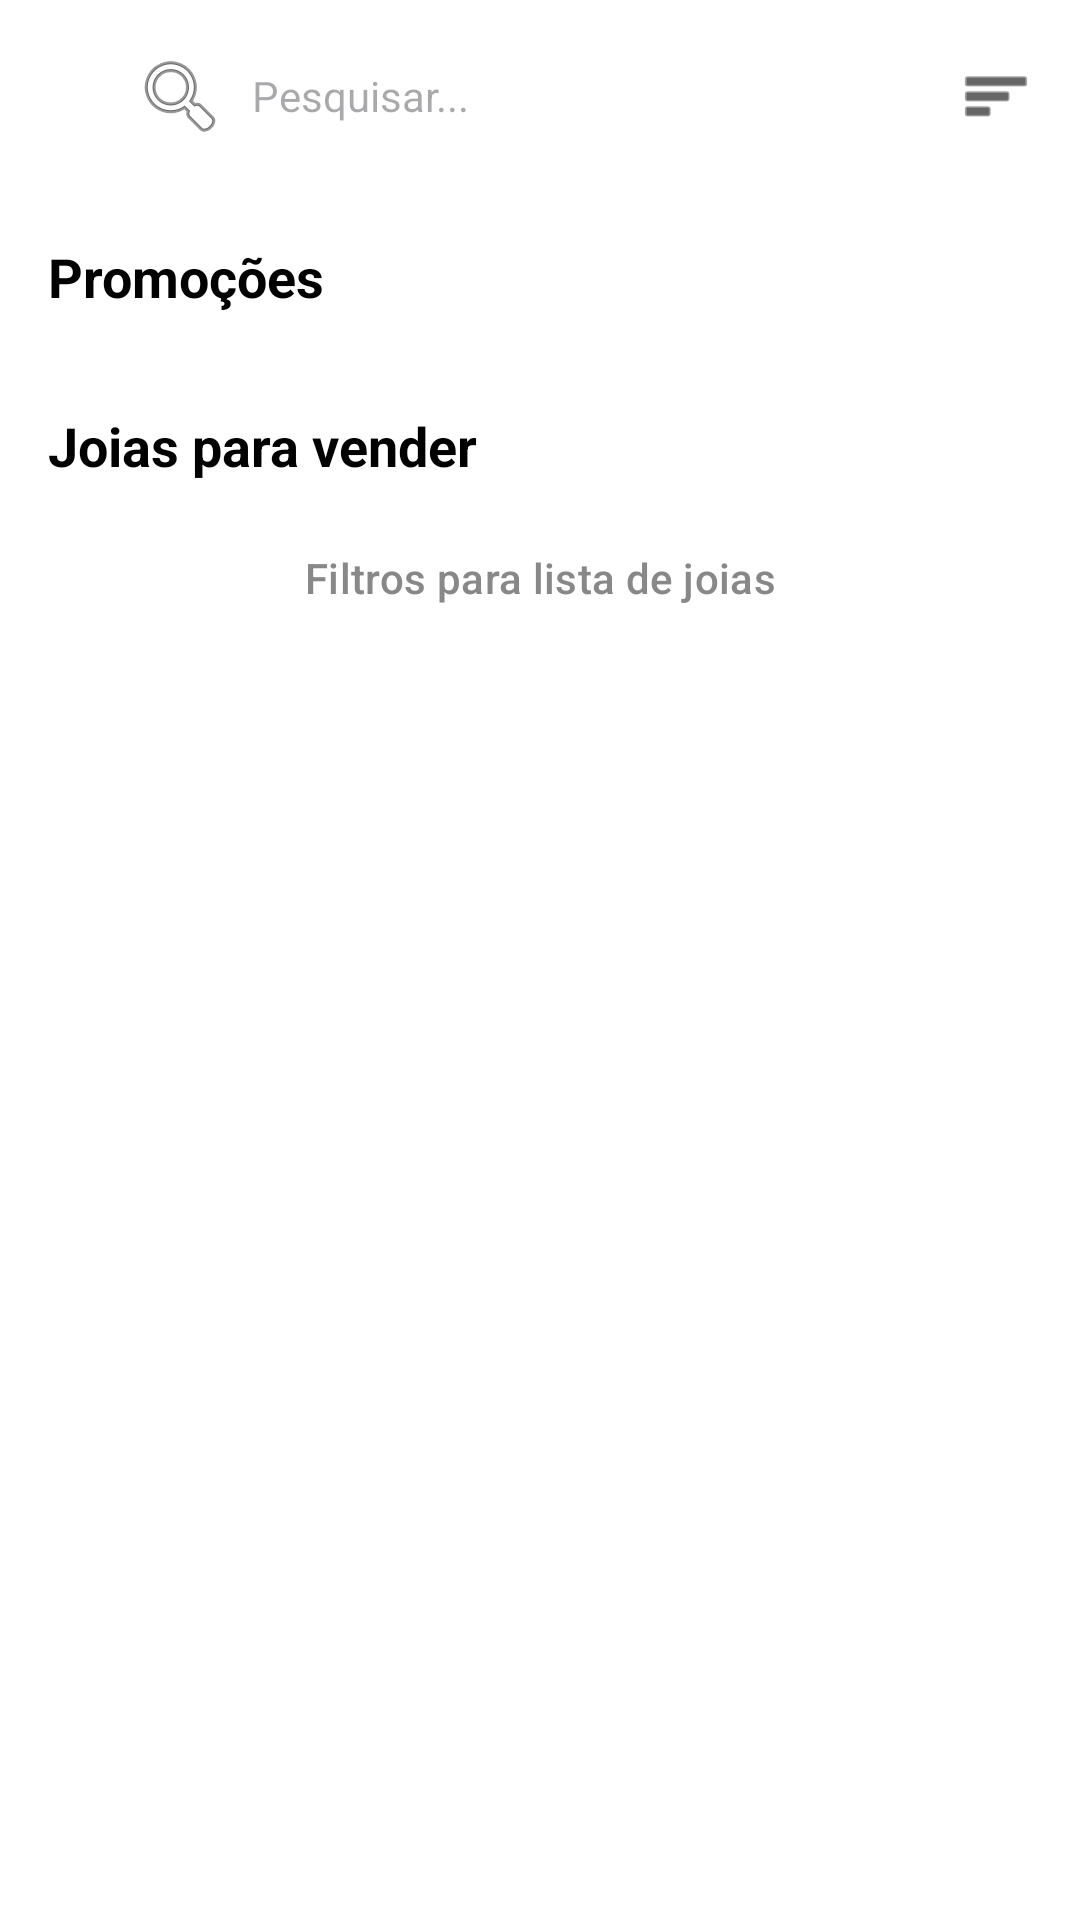

Icons on this 1080px×1920px Android screen, each with its box as (x1, y1, x2, y2):
sort by size: (965, 76, 1027, 117)
